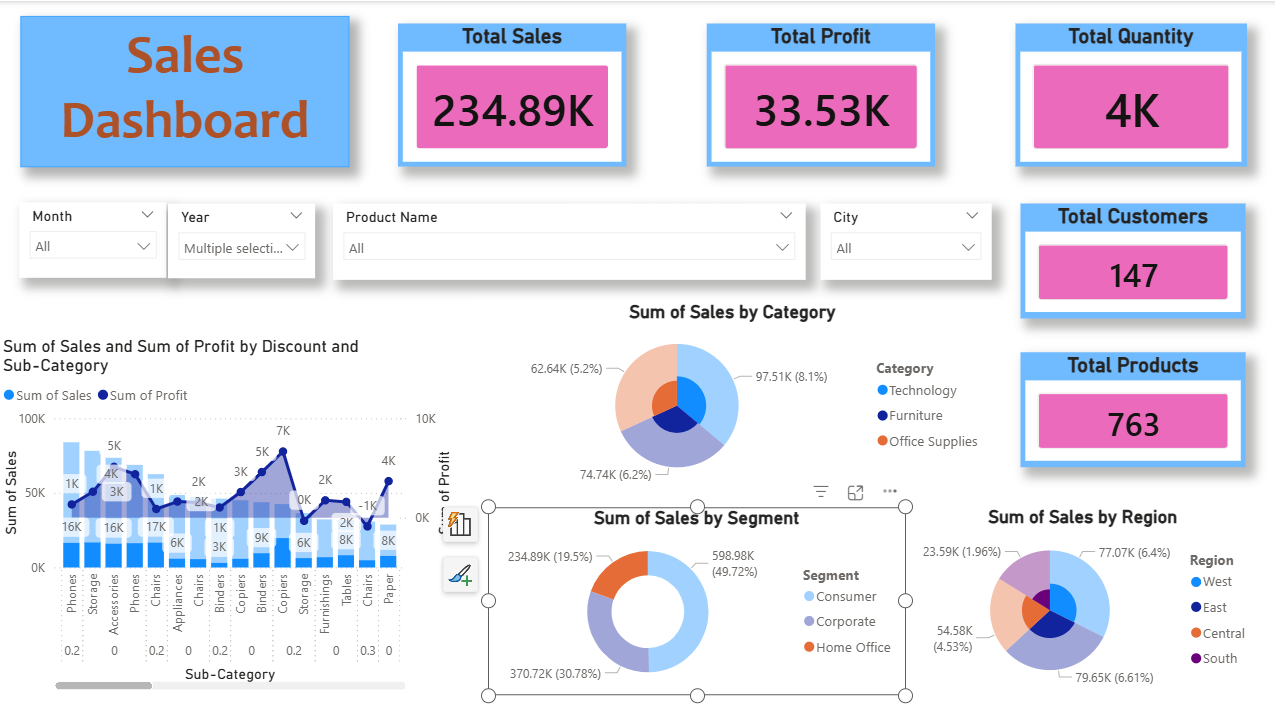

The page's visual inventory and layout, read from the dashboard file:
{"tool":"powerbi","page":{"name":"Page 1","canvas":[1280,720],"ordinal":0},"visuals":[{"type":"textbox","box":[22.5,15,327.5,150],"z":0},{"type":"cardVisual","title":"Total Profit","fields":{"Data":["Sales Overview Data xlsx - Sales Data.Total profit"]},"box":[705,22.5,227.5,142.5],"z":1000},{"type":"cardVisual","title":"Total Customers","fields":{"Data":["Sales Overview Data xlsx - Sales Data.Total Customers"]},"box":[1018,202,224,114],"z":2000},{"type":"slicer","fields":{"Values":["Sales Overview Data xlsx - Sales Data.Order Date.Variation.Date Hierarchy.Month"]},"box":[21.7,200,146.7,75],"z":3000},{"type":"slicer","fields":{"Values":["Sales Overview Data xlsx - Sales Data.Order Date.Variation.Date Hierarchy.Year"]},"box":[168.9,201.1,146.7,74.4],"z":4000},{"type":"slicer","fields":{"Values":["Sales Overview Data xlsx - Sales Data.Product Name"]},"box":[334,202,470,76],"z":5000},{"type":"slicer","fields":{"Values":["Sales Overview Data xlsx - Sales Data.City"]},"box":[818,202,170,76],"z":6000},{"type":"cardVisual","title":"Total Sales","fields":{"Data":["Sales Overview Data xlsx - Sales Data.Total Sales"]},"box":[397.5,22.5,227.5,142.5],"z":7000},{"type":"cardVisual","title":"Total Quantity","fields":{"Data":["Sales Overview Data xlsx - Sales Data.Total Quantity"]},"box":[1012.5,22.5,230,142.5],"z":8000},{"type":"cardVisual","title":"Total Products","fields":{"Data":["Count(Sales Overview Data xlsx - Sales Data.Product ID)"]},"box":[1018,350,224,114],"z":9000},{"type":"pieChart","fields":{"Category":["Sales Overview Data xlsx - Sales Data.Category"],"Y":["Sum(Sales Overview Data xlsx - Sales Data.Sales)"]},"box":[472.7,298.6,516.2,187.8],"z":10000},{"type":"pieChart","fields":{"Y":["Sum(Sales Overview Data xlsx - Sales Data.Sales)"],"Category":["Sales Overview Data xlsx - Sales Data.Region"]},"box":[902.9,502.9,352.9,187.1],"z":11000},{"type":"donutChart","fields":{"Y":["Sum(Sales Overview Data xlsx - Sales Data.Sales)"],"Category":["Sales Overview Data xlsx - Sales Data.Segment"]},"box":[487.7,503.5,415.5,187.6],"z":12000},{"type":"lineClusteredColumnComboChart","fields":{"Y":["Sum(Sales Overview Data xlsx - Sales Data.Sales)"],"Y2":["Sum(Sales Overview Data xlsx - Sales Data.Profit)"],"Category":["Sales Overview Data xlsx - Sales Data.Discount","Sales Overview Data xlsx - Sales Data.Sub-Category"]},"box":[0,333.4,456.5,357],"z":13000}]}

Visuals, with their boxes in screenshot pixels (x1, y1, x2, y2), scaled from the page's 1280x720 canvas onto the 1275x722 screenshot:
textbox: rect(22, 15, 349, 165)
"Total Profit" cardVisual: rect(702, 23, 929, 165)
"Total Customers" cardVisual: rect(1014, 203, 1237, 317)
slicer - Sales Overview Data xlsx - Sales Data.Order Date.Variation.Date Hierarchy.Month: rect(22, 201, 168, 276)
slicer - Sales Overview Data xlsx - Sales Data.Order Date.Variation.Date Hierarchy.Year: rect(168, 202, 314, 276)
slicer - Sales Overview Data xlsx - Sales Data.Product Name: rect(333, 203, 801, 279)
slicer - Sales Overview Data xlsx - Sales Data.City: rect(815, 203, 984, 279)
"Total Sales" cardVisual: rect(396, 23, 623, 165)
"Total Quantity" cardVisual: rect(1009, 23, 1238, 165)
"Total Products" cardVisual: rect(1014, 351, 1237, 465)
pieChart - Sales Overview Data xlsx - Sales Data.Category x Sum(Sales Overview Data xlsx - Sales Data.Sales): rect(471, 299, 985, 488)
pieChart - Sum(Sales Overview Data xlsx - Sales Data.Sales) x Sales Overview Data xlsx - Sales Data.Region: rect(899, 504, 1251, 692)
donutChart - Sum(Sales Overview Data xlsx - Sales Data.Sales) x Sales Overview Data xlsx - Sales Data.Segment: rect(486, 505, 900, 693)
lineClusteredColumnComboChart - Sum(Sales Overview Data xlsx - Sales Data.Sales) x Sum(Sales Overview Data xlsx - Sales Data.Profit): rect(0, 334, 455, 692)
